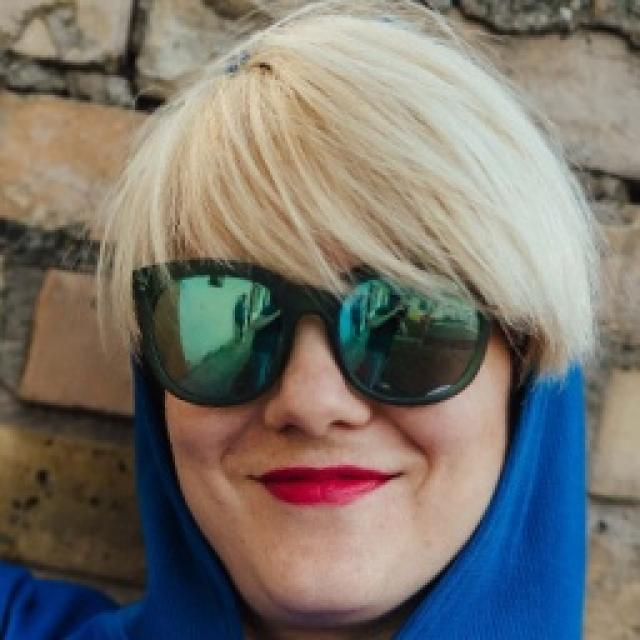glasses: (129, 247, 504, 416)
